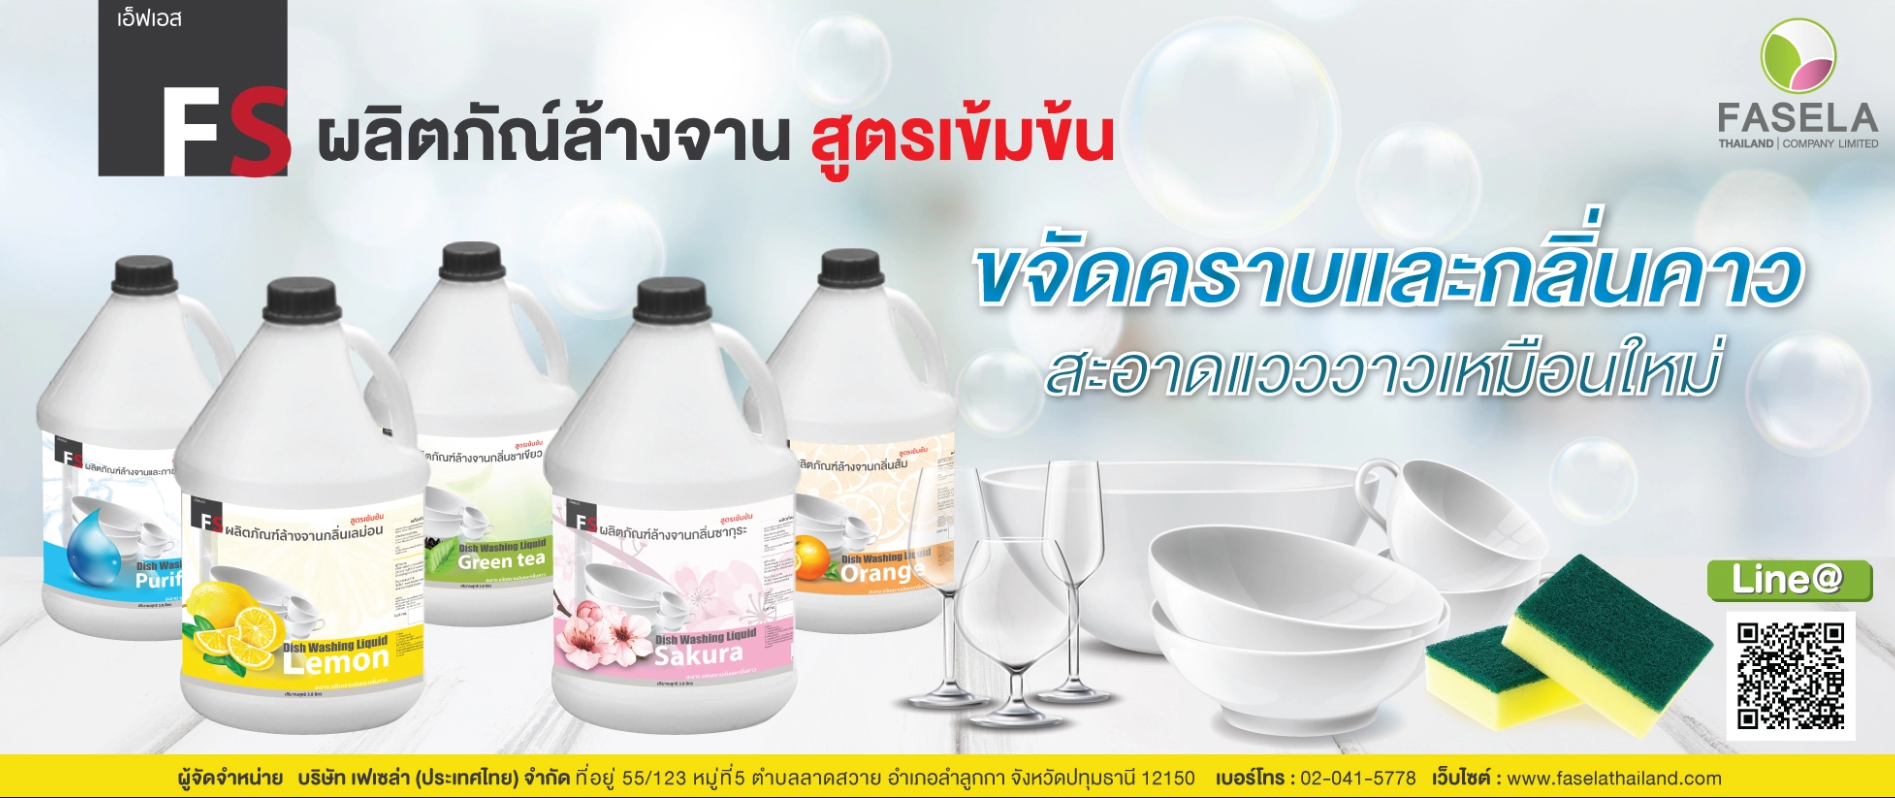Cleaning_solution: (533, 253, 825, 748), (162, 271, 450, 742), (349, 222, 605, 652), (22, 237, 259, 650), (738, 238, 962, 650)
